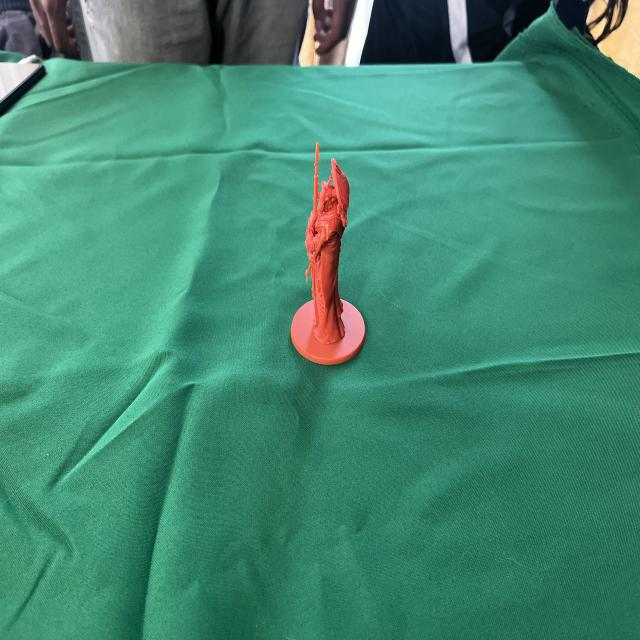amon: (291, 134, 369, 370)
